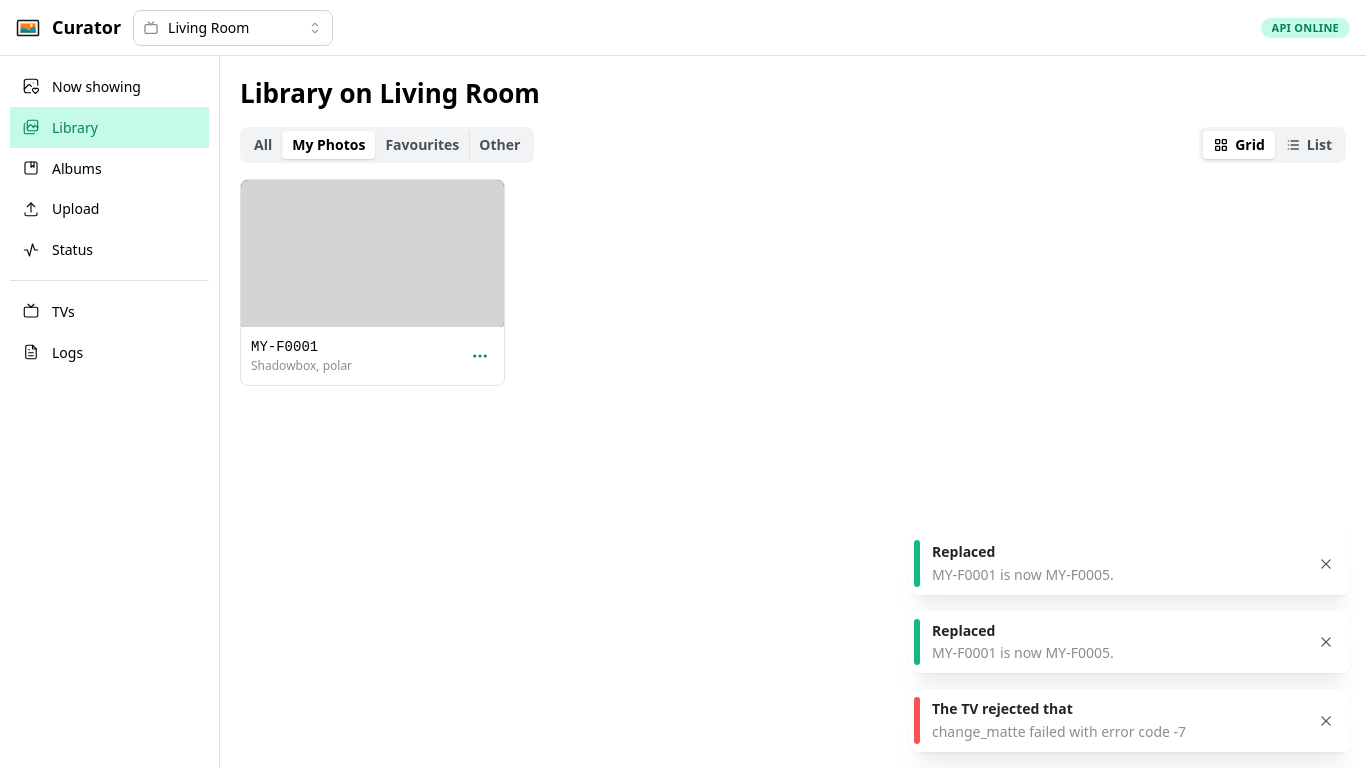
Test: library › switches between grid and list, keeping the choice and the category in the URL
Click the radio button labelled "List".
click(1308, 145)  # box [1285,135,1332,154]
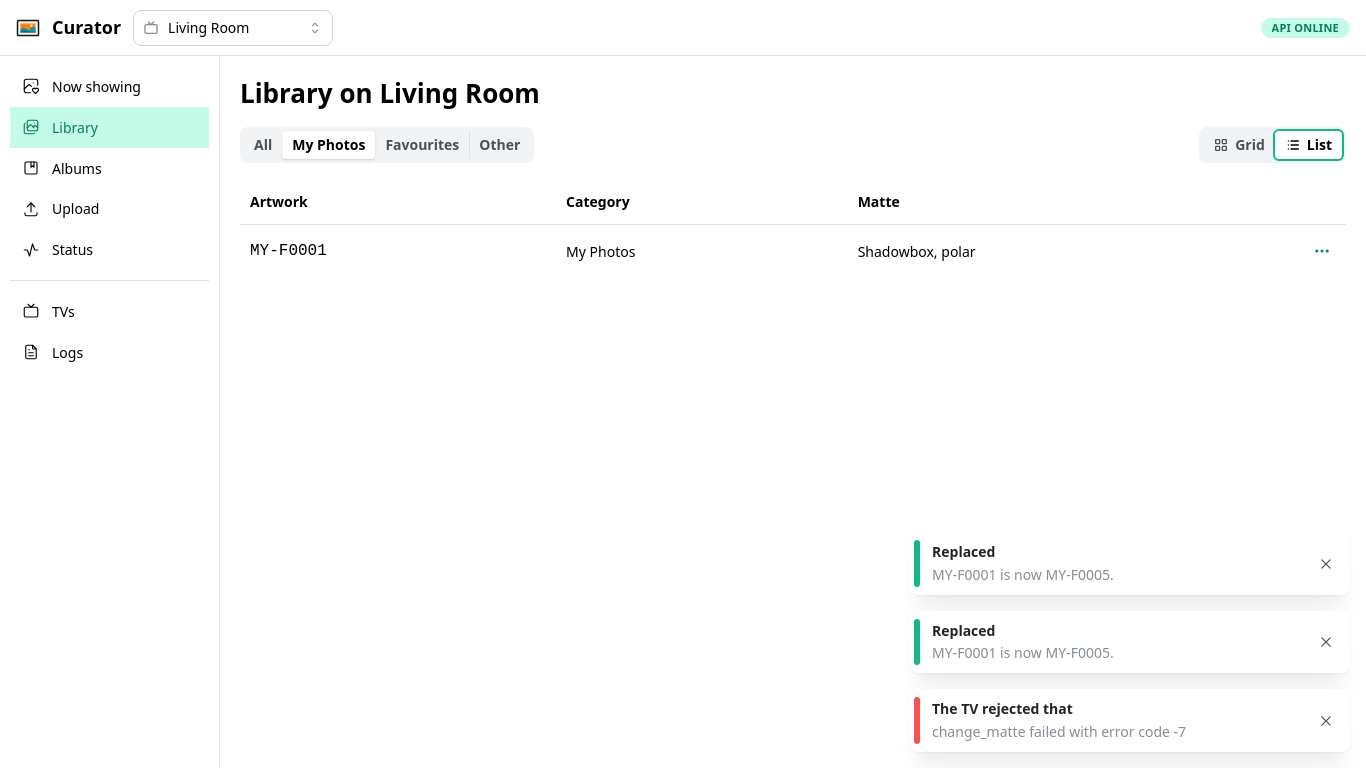
Expected: the table is shown, [240,179,1346,278]
Click the radio button labelled "Grid".
click(1239, 145)  # box [1213,135,1265,154]
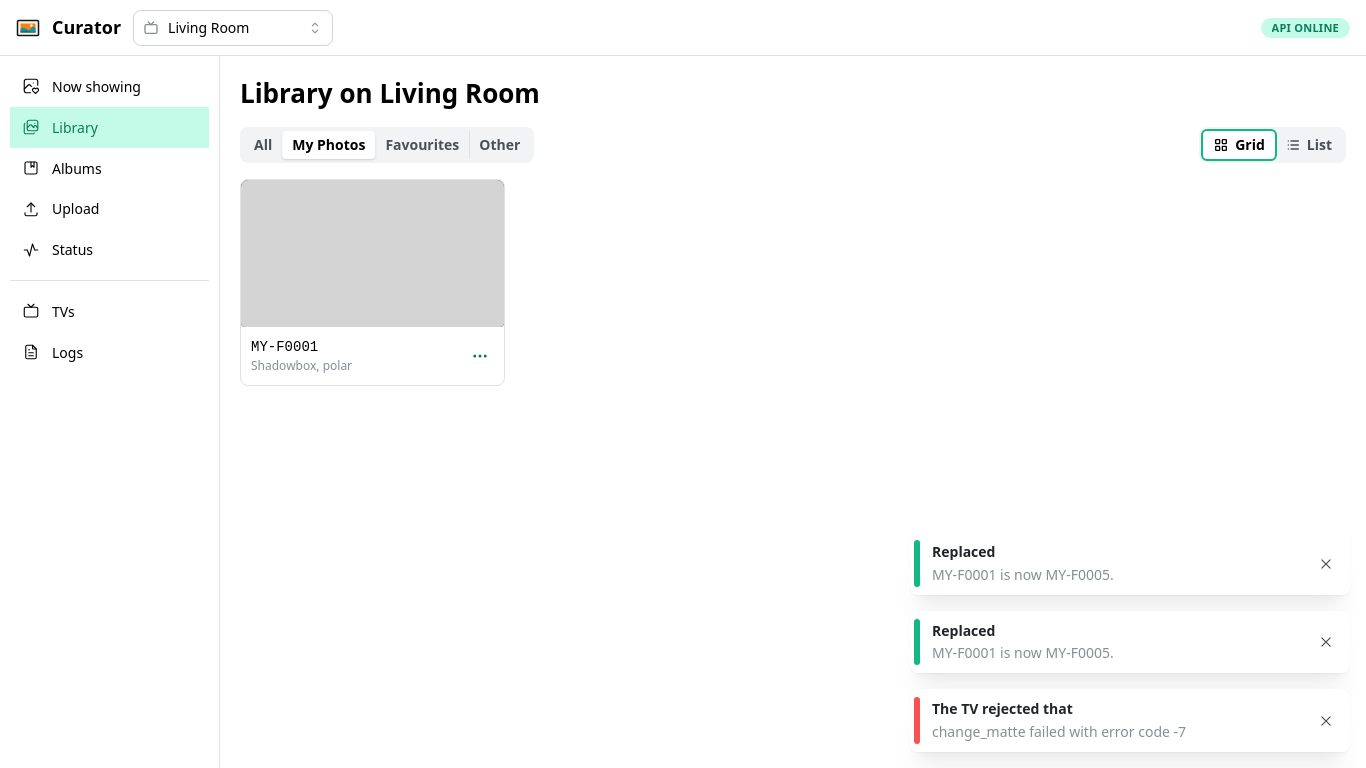
Expected: the table is gone
